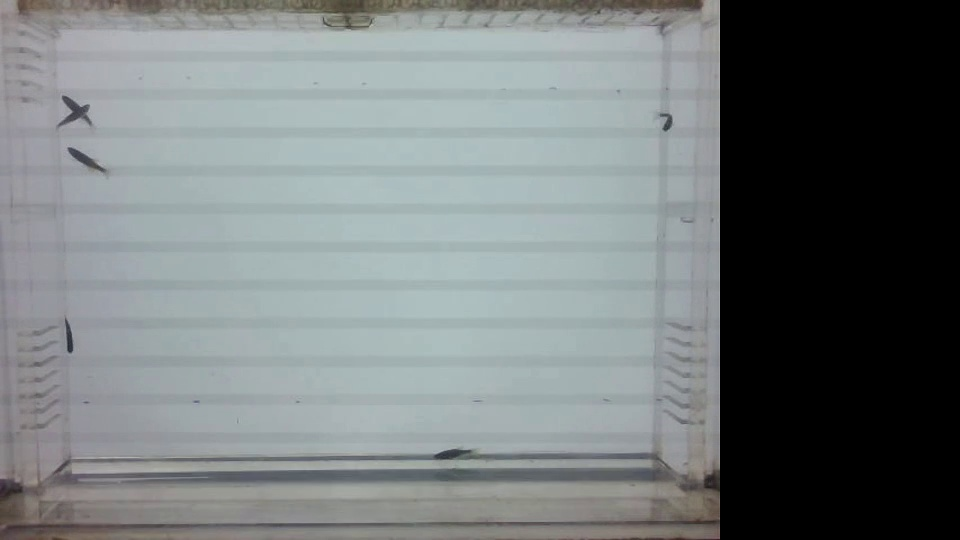fish: (68, 142, 108, 180), (430, 440, 482, 465), (48, 104, 92, 132), (644, 108, 681, 140), (61, 94, 94, 128), (62, 312, 76, 356)
